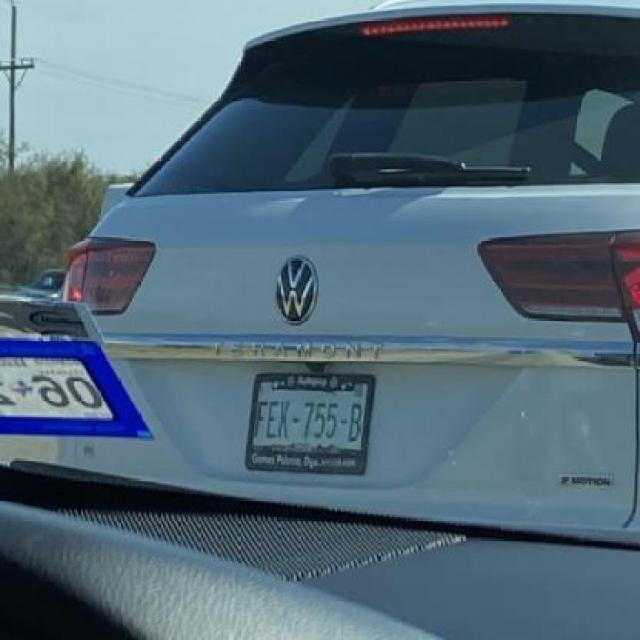licenseplate: (243, 373, 377, 477)
